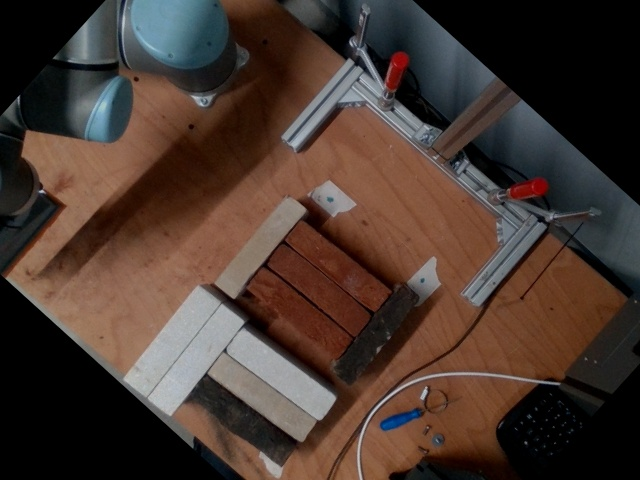brick-side: (149, 304, 245, 416), (124, 285, 220, 397), (225, 329, 334, 421), (187, 377, 297, 466), (209, 354, 315, 443), (266, 245, 370, 335), (213, 194, 304, 296), (248, 268, 351, 358), (332, 283, 421, 386), (287, 223, 390, 312)
